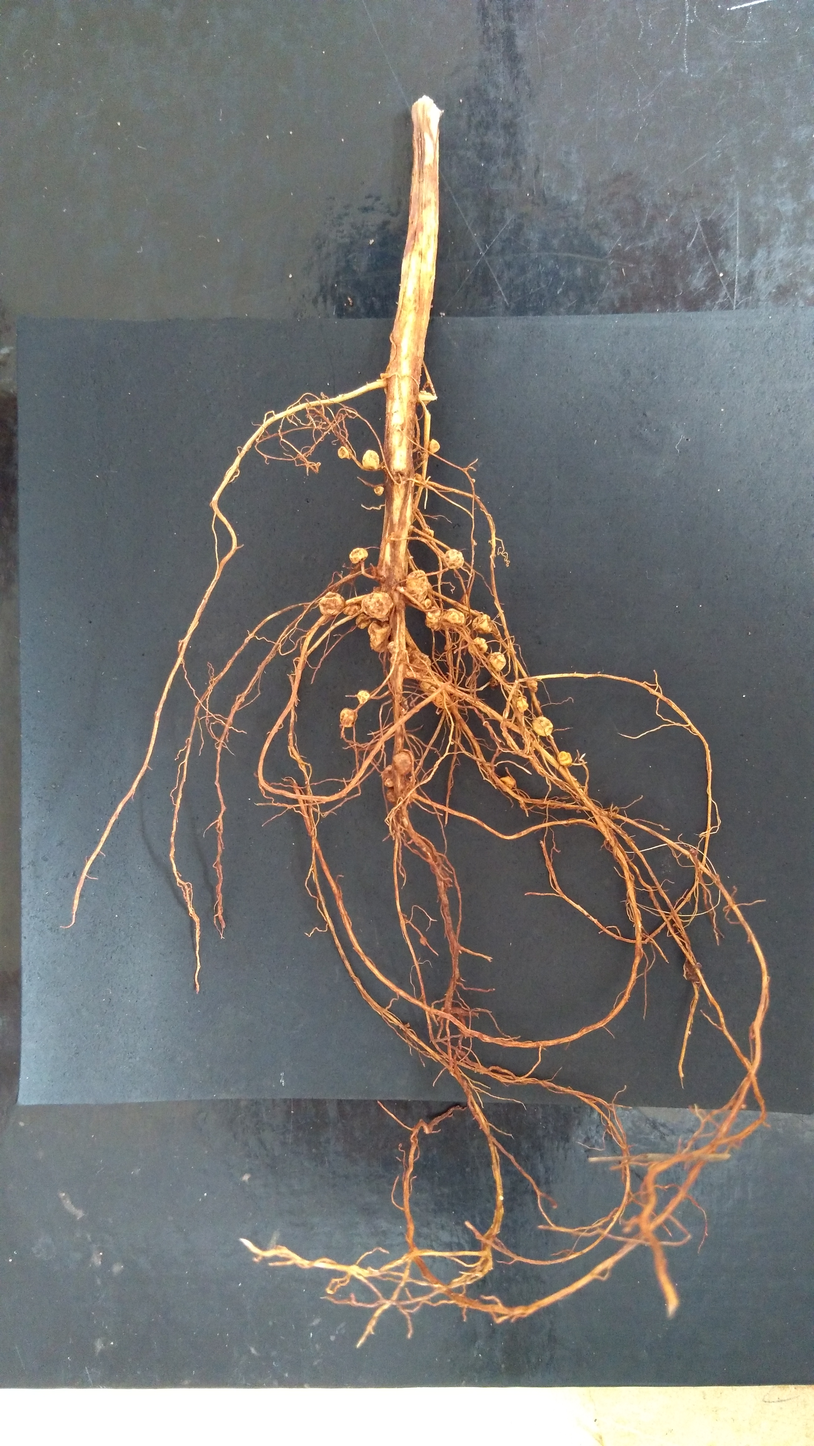nodule: (418, 673, 457, 708), (402, 644, 432, 679), (361, 591, 394, 619), (405, 569, 429, 605), (367, 620, 392, 653), (319, 591, 345, 617), (389, 804, 412, 832), (439, 607, 466, 628), (452, 593, 471, 620), (682, 959, 705, 981), (393, 751, 414, 775), (400, 776, 418, 804), (424, 605, 442, 631), (442, 549, 464, 570), (471, 614, 494, 634), (532, 716, 553, 737), (467, 636, 488, 656), (361, 450, 380, 472), (486, 652, 506, 672), (339, 707, 358, 728), (348, 547, 369, 564), (380, 765, 396, 787), (390, 647, 408, 666), (498, 775, 516, 793), (355, 612, 371, 629), (343, 602, 362, 616), (419, 390, 434, 406), (419, 527, 434, 543), (557, 751, 573, 766), (427, 438, 441, 455), (385, 786, 399, 803), (380, 372, 390, 394), (517, 696, 529, 714), (337, 446, 352, 460), (356, 690, 370, 705), (525, 677, 538, 693), (399, 696, 409, 715), (387, 640, 400, 654), (489, 675, 501, 687), (374, 483, 385, 496), (413, 472, 423, 486), (444, 640, 454, 652), (688, 847, 699, 856), (424, 598, 432, 609), (419, 936, 427, 946), (471, 477, 476, 483), (518, 799, 524, 804), (473, 539, 477, 546)
